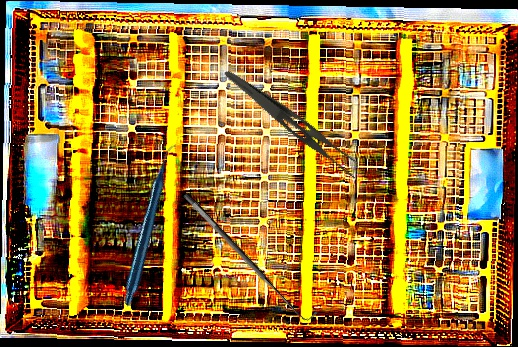Dressing Forceps: (213, 68, 369, 182)
Handpiece: (65, 142, 238, 308)
Hook Surgical: (181, 182, 321, 330)
